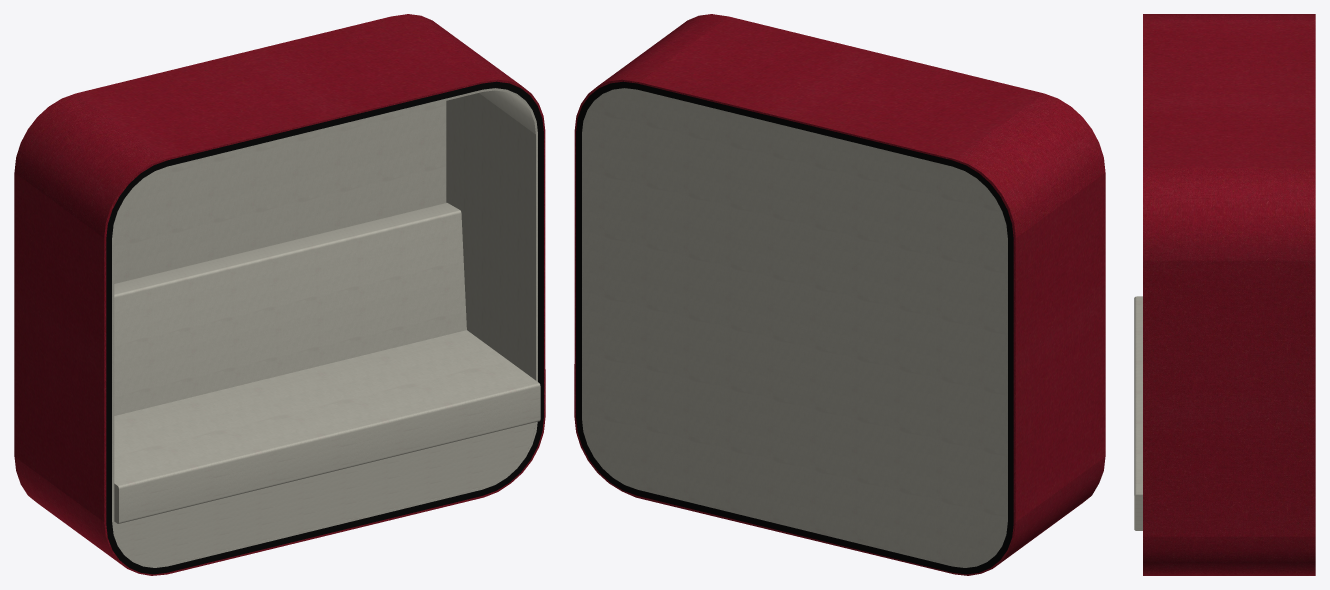
Rendered from Cocoon.FBX.
The picture shows the model from 3 angles, left to right: view 1: azimuth 30°, elevation 25°; view 2: azimuth 150°, elevation 25°; view 3: azimuth 270°, elevation 25°; orthographic projection. The views are drawn at different scales.
Parts seen in each view (by area): view 1: Rectangle001, Box003, Box002, Shape003, Shape002, Rectangle002; view 2: Shape003, Rectangle001, Shape002; view 3: Rectangle001, Box002.
Boxes of the visible parts, x1=… form: Rectangle001: x1=14, y1=14, x2=545, y2=575; Box003: x1=114, y1=202, x2=466, y2=415; Box002: x1=114, y1=330, x2=540, y2=523; Shape003: x1=114, y1=101, x2=446, y2=283; Shape002: x1=112, y1=88, x2=537, y2=567; Rectangle002: x1=114, y1=422, x2=535, y2=565; Shape003: x1=584, y1=90, x2=1005, y2=565; Rectangle001: x1=574, y1=14, x2=1105, y2=575; Shape002: x1=582, y1=88, x2=1007, y2=567; Rectangle001: x1=1143, y1=14, x2=1315, y2=575; Box002: x1=1134, y1=296, x2=1142, y2=530.
Bounding box in the file's own units: 2016 × 1817 × 746.
Materials: 4 (2 with a texture image).
